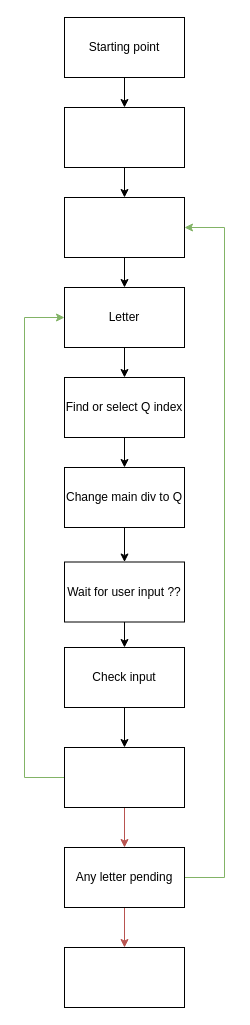
This 250x1025 diagram has some shape labels left out. The shapes that lost their labels are listed below. From the top down, each one's centre as x and y in pixels, then its label:
At [124,137]: "Store username, change placeholder".
At [124,227]: "startRound()".
At [124,777]: "More letters?".
At [124,977]: "Points".
